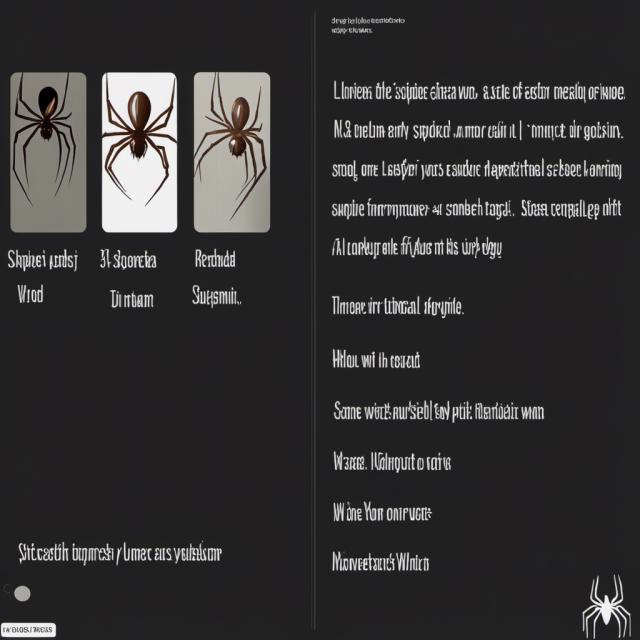spider: (11, 72, 92, 227), (101, 72, 178, 218), (193, 79, 271, 223)
